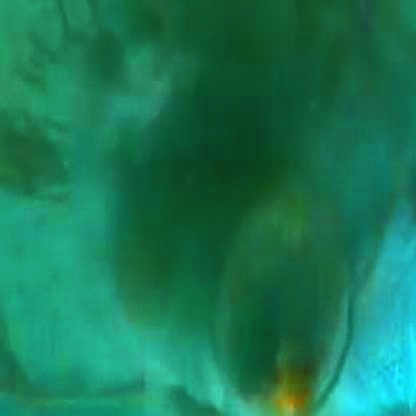gbottle: (173, 190, 363, 416)
